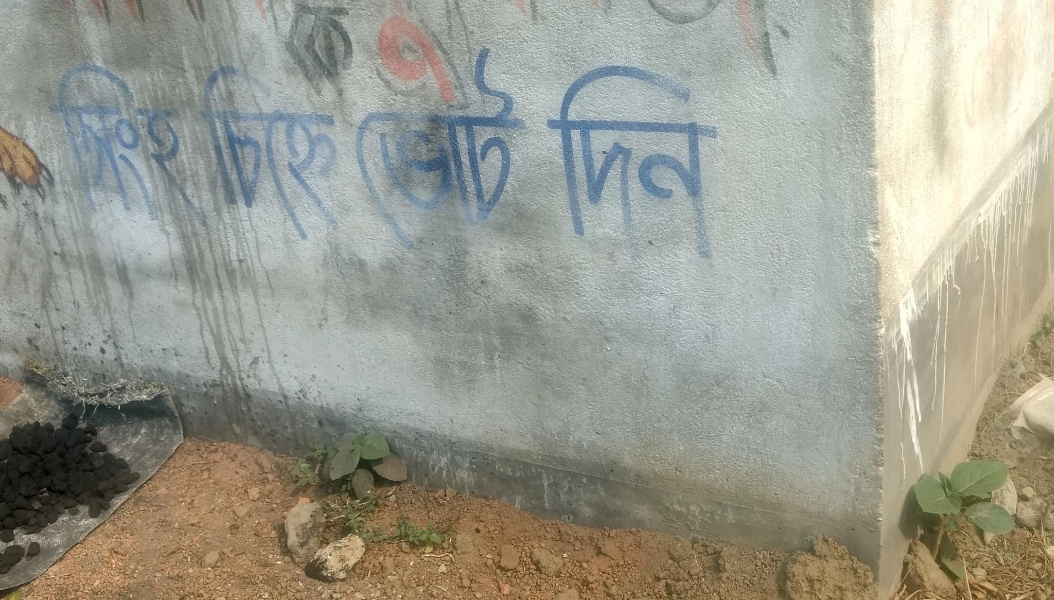text: (369, 43, 384, 254), (385, 43, 400, 254), (401, 43, 416, 254), (417, 43, 432, 254), (433, 43, 448, 254), (449, 43, 464, 254), (465, 43, 480, 254), (481, 43, 496, 254), (497, 43, 512, 254), (513, 43, 528, 254), (545, 67, 560, 270), (561, 67, 576, 270), (577, 67, 592, 270), (593, 67, 608, 270), (609, 67, 624, 270), (625, 67, 640, 270), (641, 67, 656, 270), (657, 67, 672, 270), (673, 67, 688, 270), (689, 67, 704, 270), (705, 67, 720, 270), (193, 64, 208, 252), (209, 64, 224, 252), (225, 64, 240, 252), (241, 64, 256, 252), (257, 64, 272, 252), (273, 64, 288, 252), (289, 64, 304, 252), (305, 64, 320, 252), (321, 64, 336, 252), (17, 94, 32, 263), (33, 94, 48, 263), (49, 65, 64, 230), (65, 65, 80, 230), (81, 65, 96, 230), (97, 65, 112, 230), (113, 65, 128, 230), (129, 65, 144, 230), (145, 65, 160, 230), (161, 65, 176, 230), (177, 65, 192, 230), (337, 64, 350, 252), (193, 65, 207, 230), (358, 43, 368, 254), (49, 94, 59, 263), (305, 7, 320, 100), (321, 7, 336, 100), (337, 7, 352, 100), (8, 94, 16, 263), (290, 7, 304, 100), (385, 18, 400, 96), (401, 18, 416, 96), (417, 18, 432, 96), (433, 18, 448, 96), (529, 43, 534, 254), (449, 5, 464, 75), (465, 5, 480, 75), (481, 5, 496, 75), (497, 5, 512, 75), (513, 5, 528, 75), (529, 5, 544, 75), (545, 5, 560, 75), (561, 5, 576, 75), (577, 5, 592, 75), (593, 5, 608, 75), (609, 5, 624, 75), (625, 5, 640, 75), (641, 5, 656, 75), (657, 5, 672, 75), (673, 5, 688, 75), (689, 5, 704, 75), (705, 5, 720, 75), (721, 5, 736, 75), (737, 5, 752, 75), (753, 5, 768, 75), (769, 5, 784, 75), (353, 7, 364, 100), (435, 5, 448, 75), (785, 5, 797, 75), (541, 67, 544, 270), (721, 67, 724, 270), (65, 1, 80, 35), (81, 1, 96, 35), (97, 1, 112, 35), (113, 1, 128, 35), (129, 1, 144, 35), (145, 1, 160, 35), (161, 1, 176, 35), (177, 1, 192, 35), (193, 1, 208, 35), (209, 1, 224, 35), (225, 1, 240, 35), (241, 1, 256, 35), (257, 1, 272, 35), (449, 18, 455, 96), (273, 1, 285, 35), (380, 18, 384, 96), (55, 1, 64, 35)
